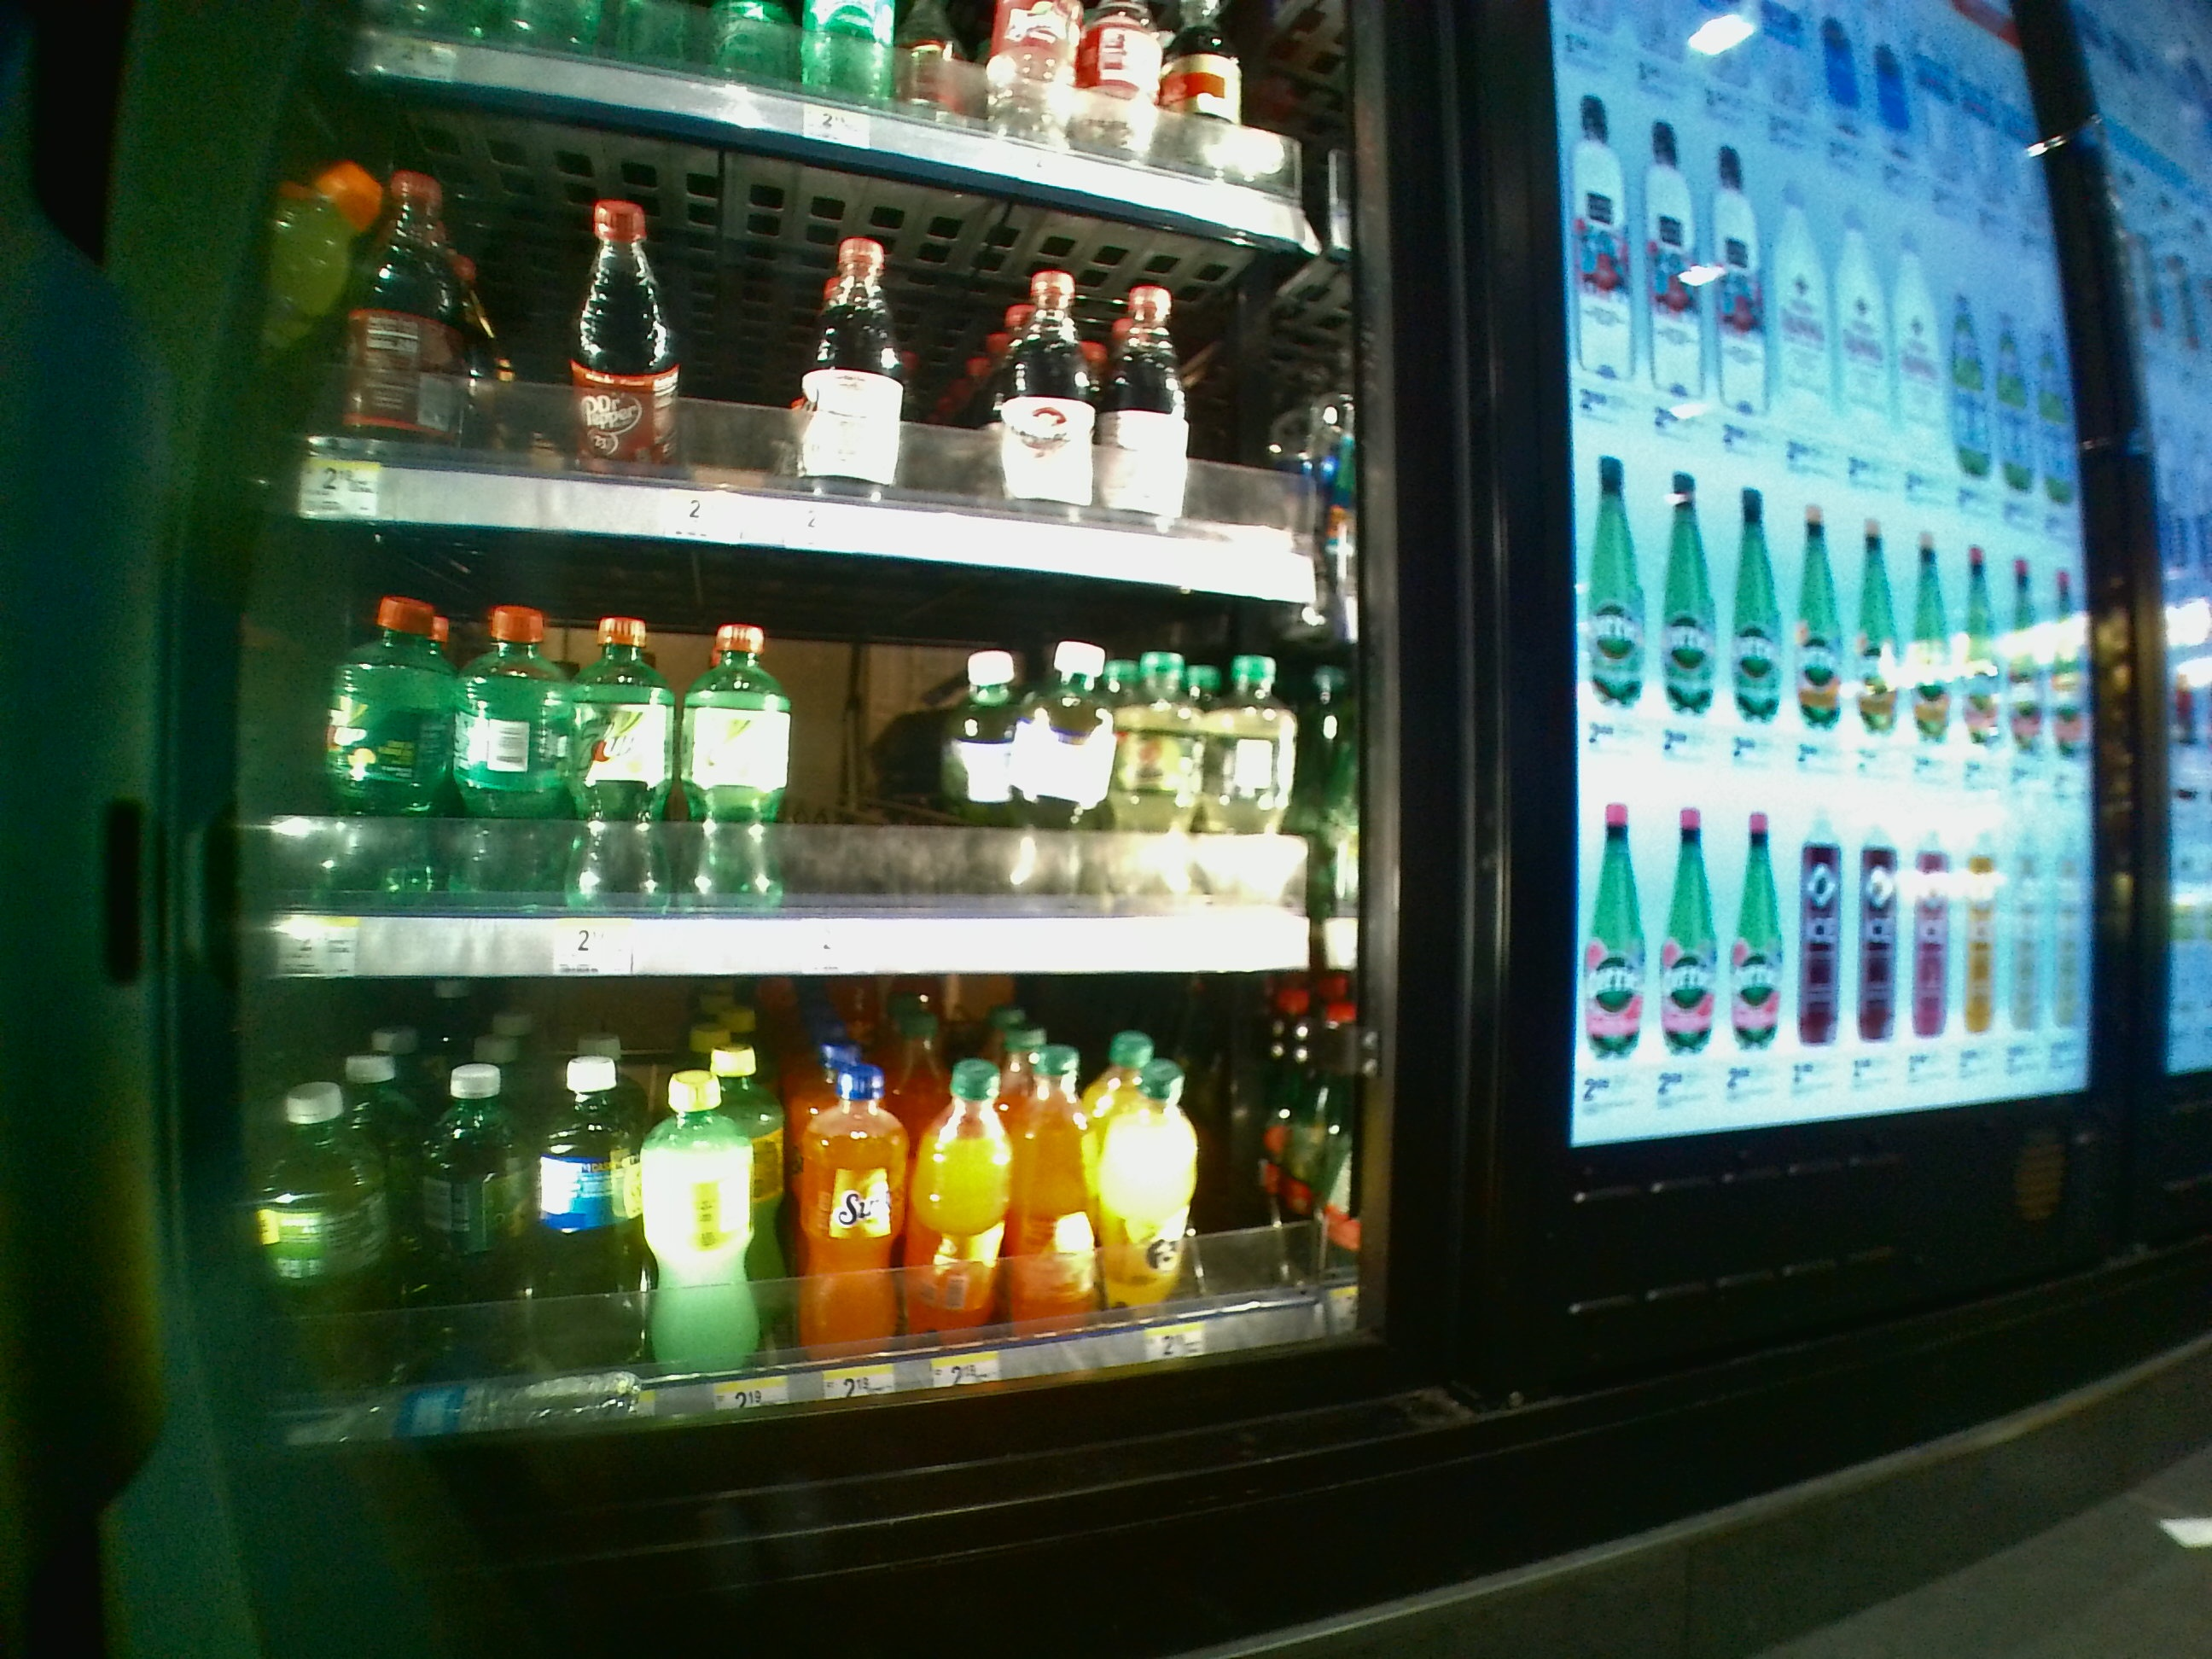shelf: (293, 532, 1322, 971), (273, 969, 1329, 1391), (294, 150, 1320, 538)
